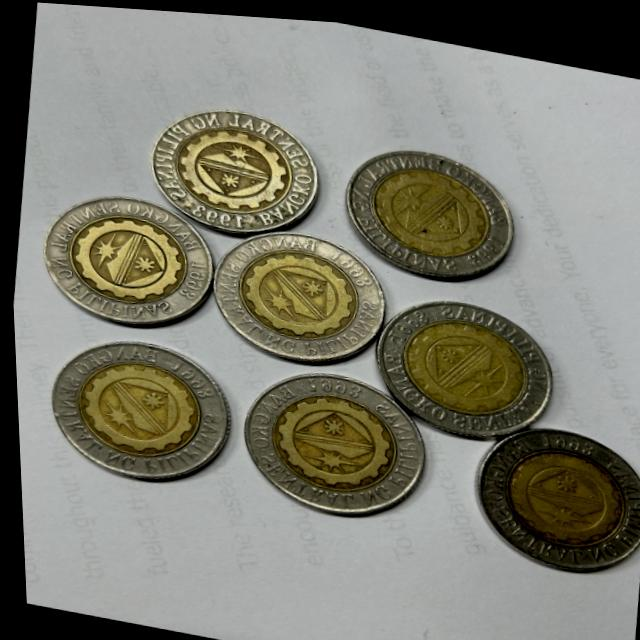10_Old_Back: (232, 363, 420, 511), (372, 286, 555, 436), (208, 219, 387, 370), (48, 326, 220, 483), (28, 186, 216, 320), (343, 136, 519, 279), (145, 96, 316, 241), (475, 418, 640, 564)
